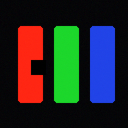1 square: (31, 60, 45, 74)
